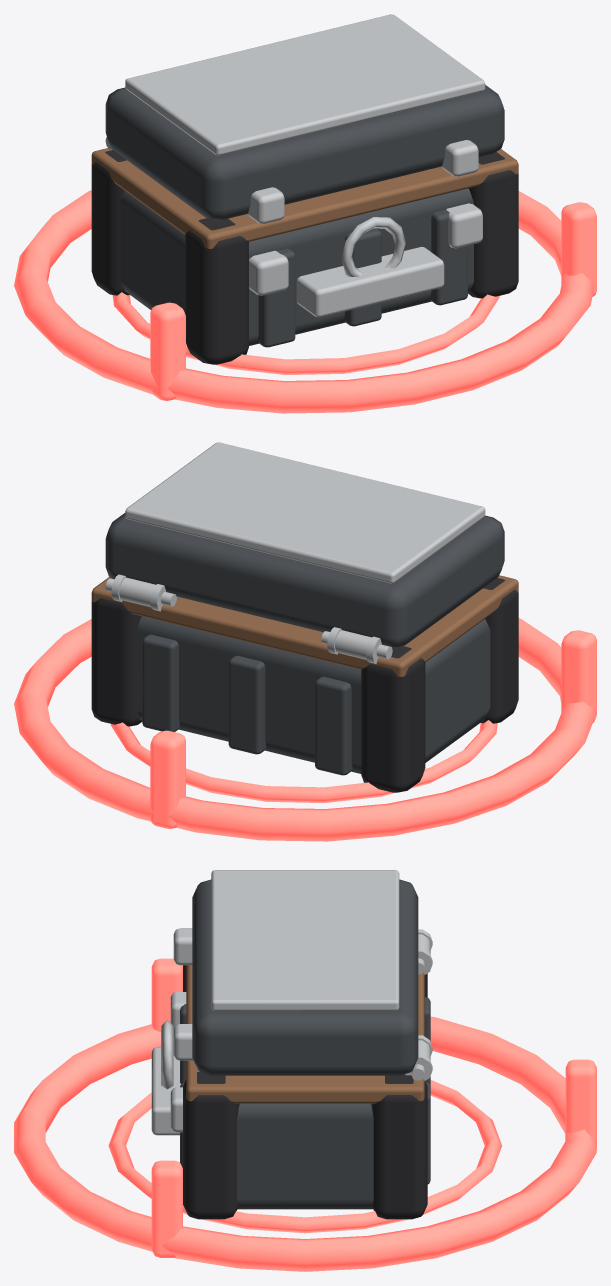
The model's file is fps-survival-forest-outpost-loot-cache-epic-b1bb7fb4__32662.glb.
3 views of the same model, one above another, from view 1: azimuth 30°, elevation 25°; view 2: azimuth 150°, elevation 25°; view 3: azimuth 270°, elevation 25° (orthographic).
Visible parts, largest first — view 1: loot-cache-epic, lid/steel, lid/gunmetal; view 2: loot-cache-epic, lid/steel, lid/gunmetal; view 3: loot-cache-epic, lid/steel, lid/gunmetal.
Part boxes in pixels (x1,y1,x2,y2): loot-cache-epic: (14,137,596,413); lid/steel: (125,14,485,223); lid/gunmetal: (105,85,504,219); loot-cache-epic: (14,574,596,841); lid/steel: (125,442,485,583); lid/gunmetal: (105,513,504,647); loot-cache-epic: (14,929,596,1271); lid/steel: (173,870,399,1060); lid/gunmetal: (192,879,418,1075).
Size of the model in its own units: 0.936 by 0.385 by 0.9296.
